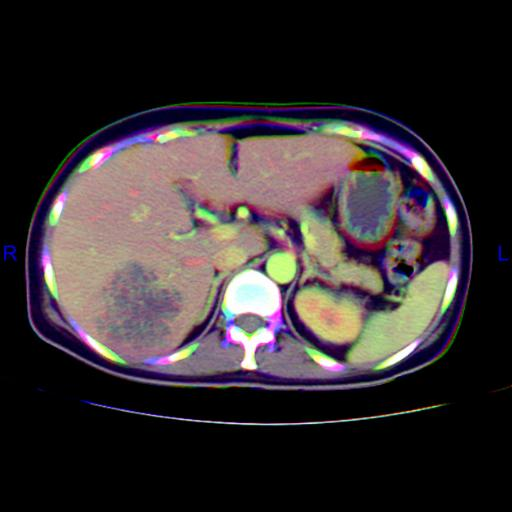Abscess: (97, 262, 182, 358)
